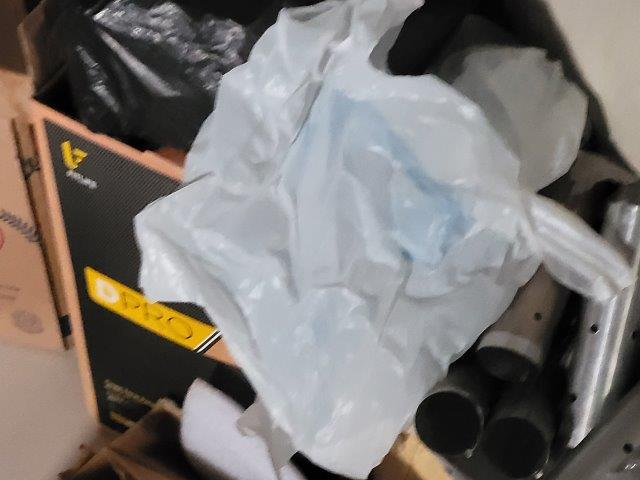plastik: (136, 1, 622, 480)
